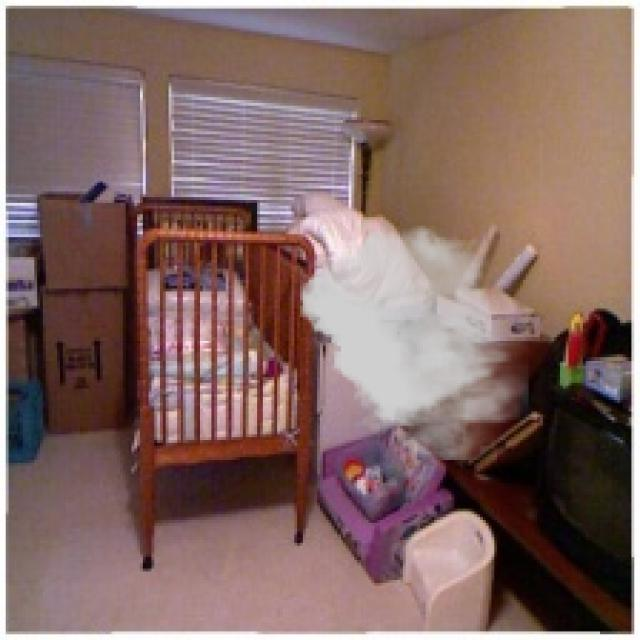smoke: (300, 226, 529, 460)
